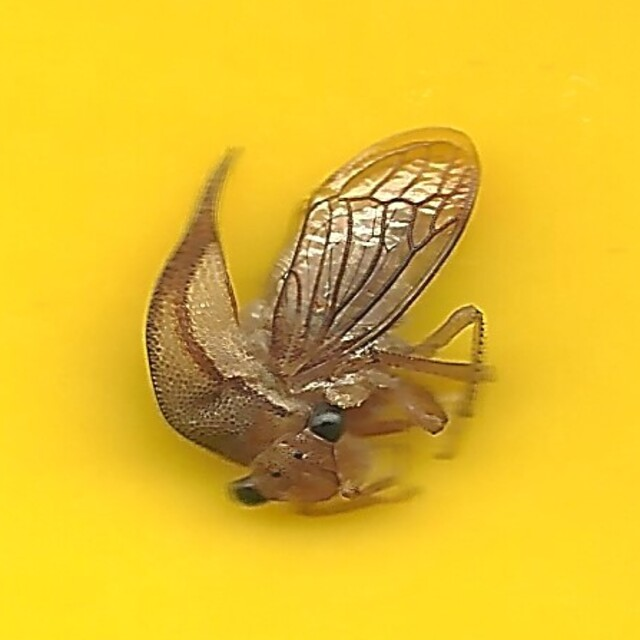Hemiptera: (143, 120, 497, 520)
